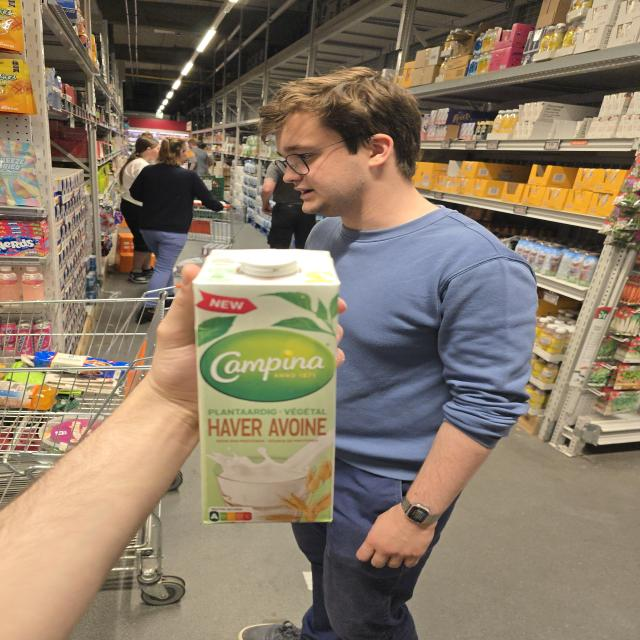Milk: (191, 248, 340, 523)
